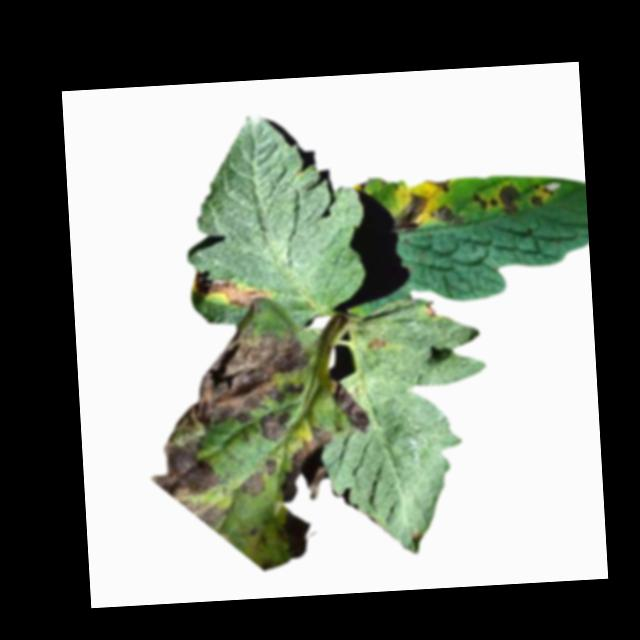Early_blight: (140, 318, 315, 531), (276, 426, 341, 508), (191, 263, 274, 310), (334, 377, 372, 435), (239, 455, 277, 499), (281, 508, 313, 559), (393, 193, 431, 235), (258, 412, 293, 446), (529, 178, 559, 209), (499, 181, 522, 214), (436, 203, 464, 226), (471, 191, 499, 208), (429, 174, 452, 193), (364, 336, 390, 352), (425, 297, 439, 320)
